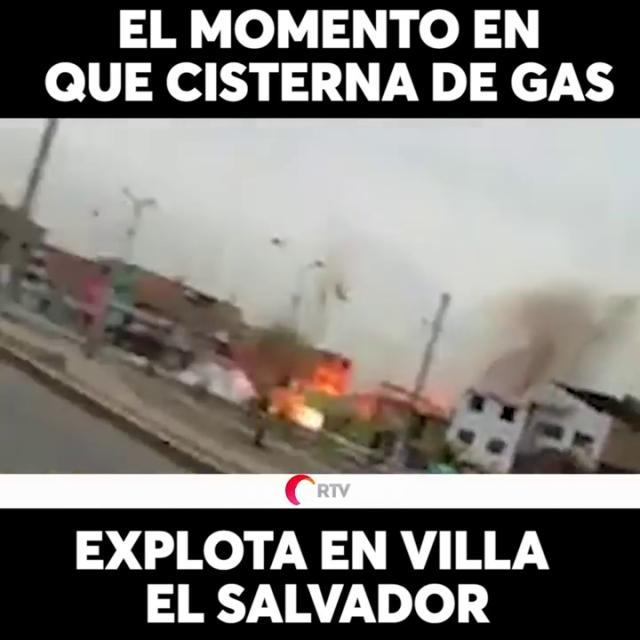Fire: (268, 353, 362, 434)
